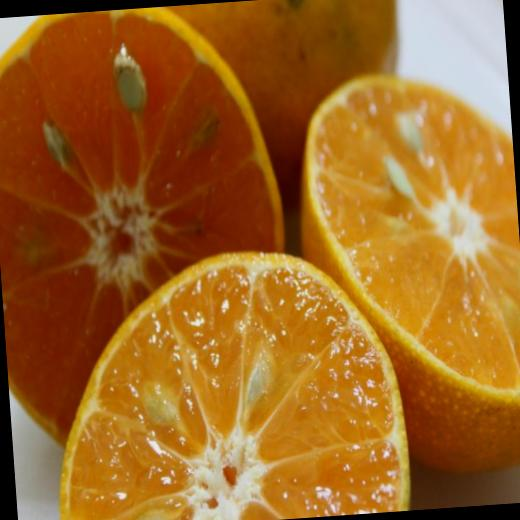Grape: (0, 0, 520, 520), (0, 0, 297, 449), (41, 239, 412, 520), (288, 62, 520, 480), (170, 0, 411, 259)
